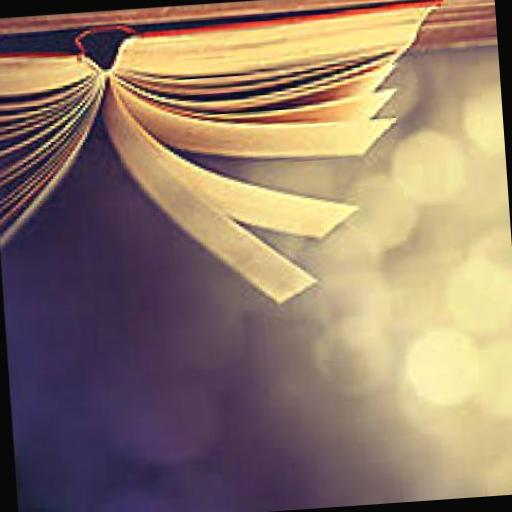paper: (0, 0, 467, 323), (100, 68, 324, 322), (108, 59, 360, 255), (120, 66, 403, 175)
